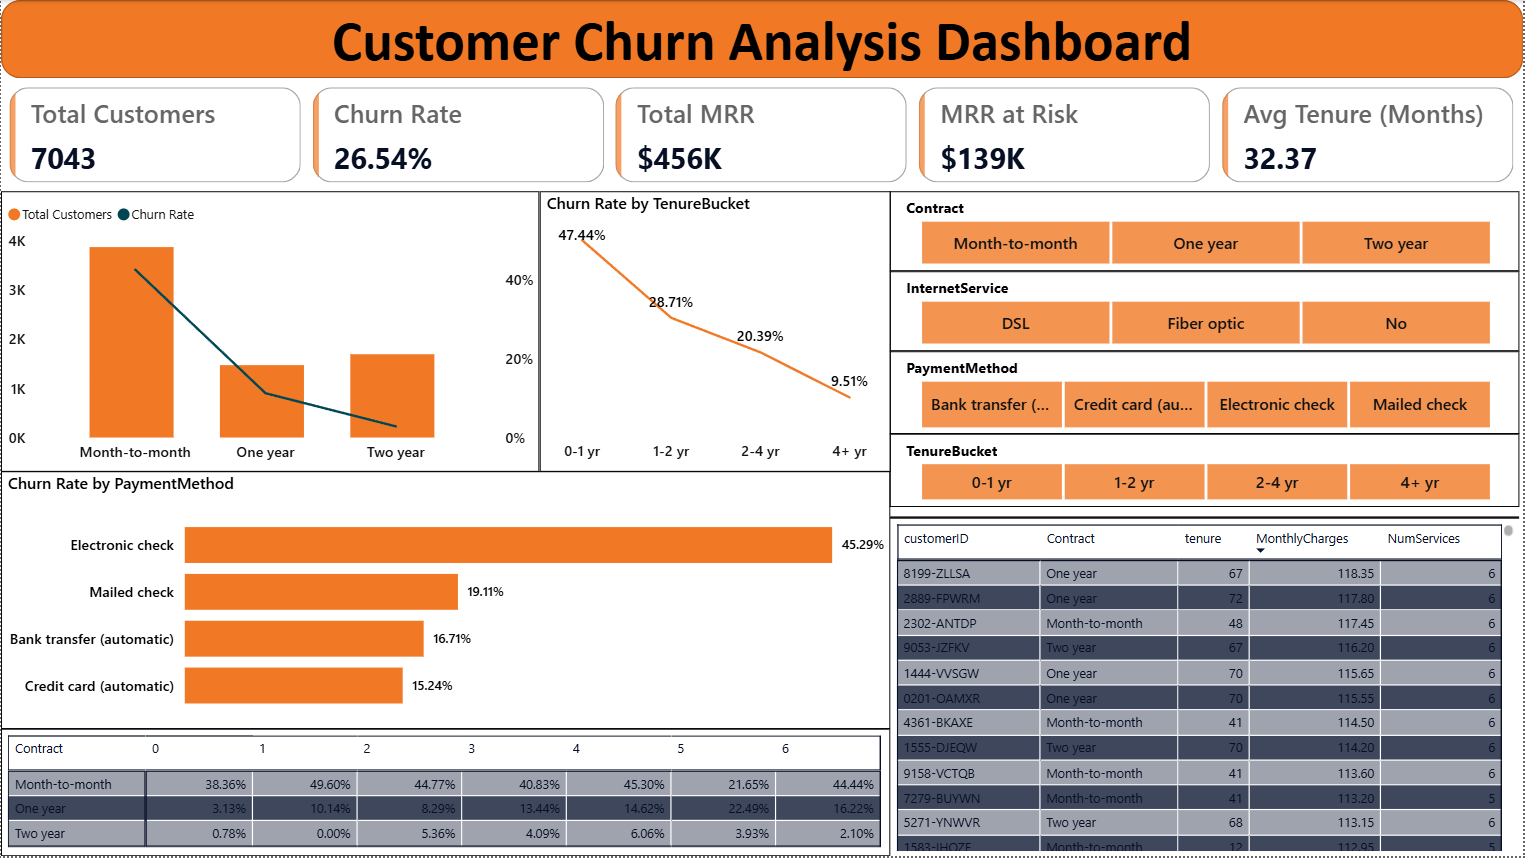

The page's visual inventory and layout, read from the dashboard file:
{"tool":"powerbi","page":{"name":"Page 1","canvas":[1280,720],"ordinal":0},"visuals":[{"type":"cardVisual","fields":{"Data":["_Measures.Total Customers","_Measures.Churn Rate","_Measures.Total MRR","_Measures.MRR at Risk","_Measures.Avg Tenure (Months)"]},"box":[0,65.9,1280.3,94.7],"z":0},{"type":"lineClusteredColumnComboChart","fields":{"Category":["cleaneddataset.Contract"],"Y":["_Measures.Total Customers"],"Y2":["_Measures.Churn Rate"]},"box":[0,160.5,452.8,236],"z":1000},{"type":"lineChart","fields":{"Category":["cleaneddataset.TenureBucket"],"Y":["_Measures.Churn Rate"]},"box":[452.8,160.5,295,236],"z":2000},{"type":"slicer","fields":{"Values":["cleaneddataset.InternetService"]},"box":[747.9,227.8,529.7,67.2],"z":3000},{"type":"slicer","fields":{"Values":["cleaneddataset.Contract"]},"box":[747.9,160.5,529.7,67.2],"z":4000},{"type":"slicer","fields":{"Values":["cleaneddataset.PaymentMethod"]},"box":[747.9,295,529.7,70],"z":5000},{"type":"shape","box":[0,0,1280.3,65.9],"z":6000},{"type":"textbox","box":[0,0,1280.3,86.4],"z":7000},{"type":"tableEx","fields":{"Values":["cleaneddataset.customerID","cleaneddataset.Contract","cleaneddataset.tenure","cleaneddataset.MonthlyCharges","cleaneddataset.NumServices"]},"box":[747.9,436.4,529.7,284],"z":8000},{"type":"slicer","fields":{"Values":["cleaneddataset.TenureBucket"]},"box":[747.9,365,529.7,61.7],"z":9000},{"type":"clusteredBarChart","fields":{"Y":["_Measures.Churn Rate"],"Category":["cleaneddataset.PaymentMethod"]},"box":[0,396.6,747.9,216.8],"z":10000},{"type":"pivotTable","fields":{"Rows":["cleaneddataset.Contract"],"Columns":["cleaneddataset.NumServices"],"Values":["_Measures.Churn Rate"]},"box":[0,613.4,747.9,107],"z":11000},{"type":"shape","box":[747.9,421.3,529.7,27.4],"z":11001}]}

Visuals, with their boxes in screenshot pixels (x1, y1, x2, y2), scaled from the page's 1280x720 canvas onto the 1525x861 screenshot:
cardVisual - _Measures.Total Customers x _Measures.Churn Rate: pyautogui.locateOnScreen(0, 79, 1524, 192)
lineClusteredColumnComboChart - cleaneddataset.Contract x _Measures.Total Customers: pyautogui.locateOnScreen(0, 192, 539, 474)
lineChart - cleaneddataset.TenureBucket x _Measures.Churn Rate: pyautogui.locateOnScreen(539, 192, 891, 474)
slicer - cleaneddataset.InternetService: pyautogui.locateOnScreen(891, 272, 1522, 353)
slicer - cleaneddataset.Contract: pyautogui.locateOnScreen(891, 192, 1522, 272)
slicer - cleaneddataset.PaymentMethod: pyautogui.locateOnScreen(891, 353, 1522, 436)
shape: pyautogui.locateOnScreen(0, 0, 1524, 79)
textbox: pyautogui.locateOnScreen(0, 0, 1524, 103)
tableEx - cleaneddataset.customerID x cleaneddataset.Contract: pyautogui.locateOnScreen(891, 522, 1522, 860)
slicer - cleaneddataset.TenureBucket: pyautogui.locateOnScreen(891, 436, 1522, 510)
clusteredBarChart - _Measures.Churn Rate x cleaneddataset.PaymentMethod: pyautogui.locateOnScreen(0, 474, 891, 734)
pivotTable - cleaneddataset.Contract x cleaneddataset.NumServices: pyautogui.locateOnScreen(0, 734, 891, 860)
shape: pyautogui.locateOnScreen(891, 504, 1522, 537)
